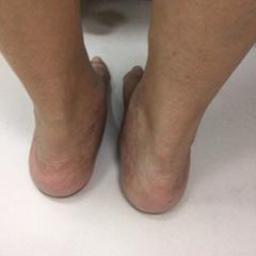Back View -Both Feet-: (6, 32, 224, 222)
